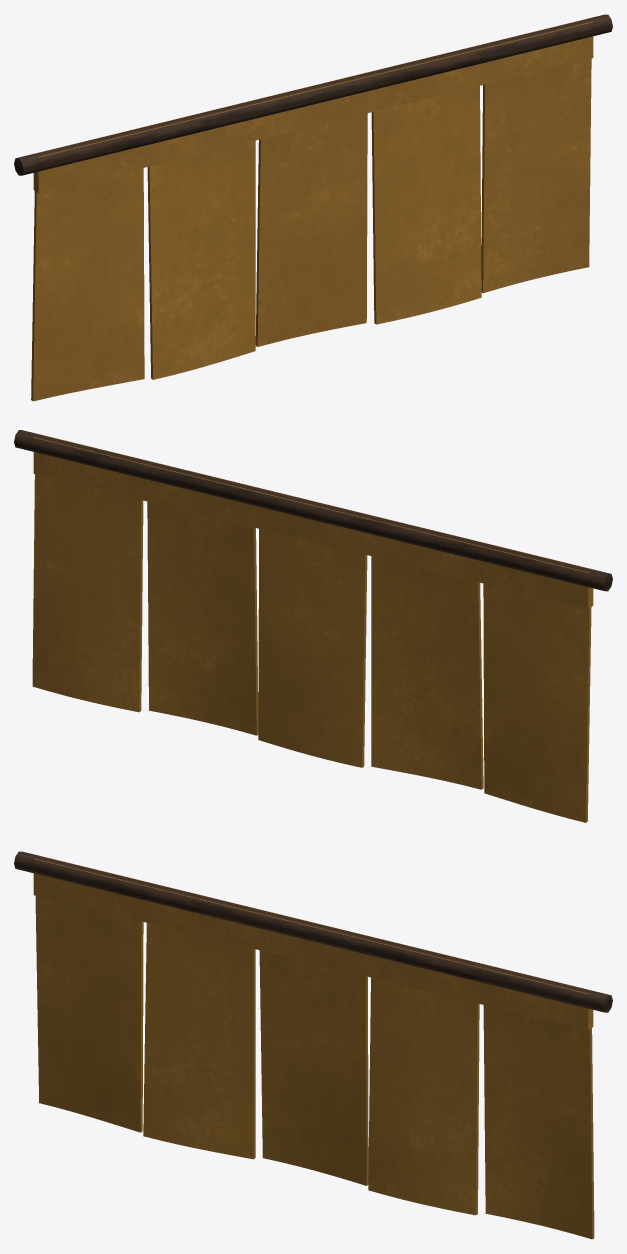
The model's file is HO_Prop_Noren_8_Ochre.fbx.
3 renders of one model, top to bottom at view 1: azimuth 30°, elevation 25°; view 2: azimuth 150°, elevation 25°; view 3: azimuth 330°, elevation 25°, orthographic.
Visible parts, largest first — view 1: HO_Prop_Noren_8_Ochre; view 2: HO_Prop_Noren_8_Ochre; view 3: HO_Prop_Noren_8_Ochre.
Part boxes in pixels (x1,y1,x2,y2): HO_Prop_Noren_8_Ochre: [14, 14, 612, 401]; HO_Prop_Noren_8_Ochre: [14, 430, 612, 822]; HO_Prop_Noren_8_Ochre: [14, 851, 612, 1239].
Size of the model in its own units: 8.5 by 3.44 by 0.2498.
